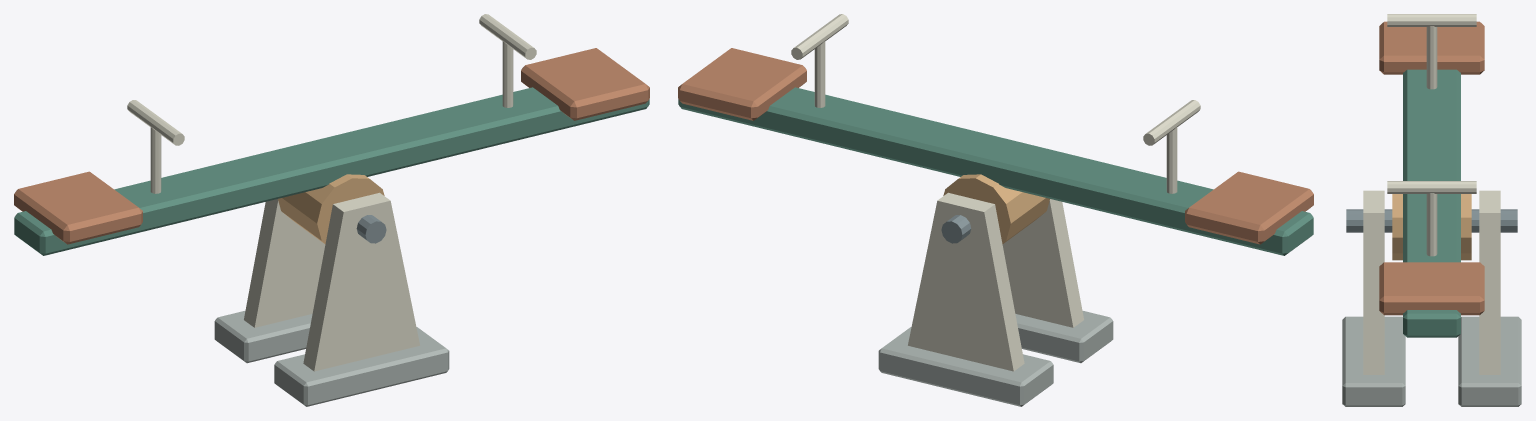
3 renders of one model, left to right at view 1: azimuth 30°, elevation 25°; view 2: azimuth 150°, elevation 25°; view 3: azimuth 270°, elevation 25°, orthographic. The views are drawn at different scales.
Parts seen in each view (by area): view 1: Beam_Runtime, Base_Runtime; view 2: Beam_Runtime, Base_Runtime; view 3: Beam_Runtime, Base_Runtime.
Part boxes in pixels (bbox=[...]): Beam_Runtime: bbox=[14, 14, 649, 255]; Base_Runtime: bbox=[214, 192, 449, 406]; Beam_Runtime: bbox=[678, 14, 1313, 255]; Base_Runtime: bbox=[878, 192, 1113, 406]; Beam_Runtime: bbox=[1379, 14, 1484, 337]; Base_Runtime: bbox=[1342, 190, 1521, 406].
Bounding box in the file's own units: 2.6 × 1.15 × 0.68.
